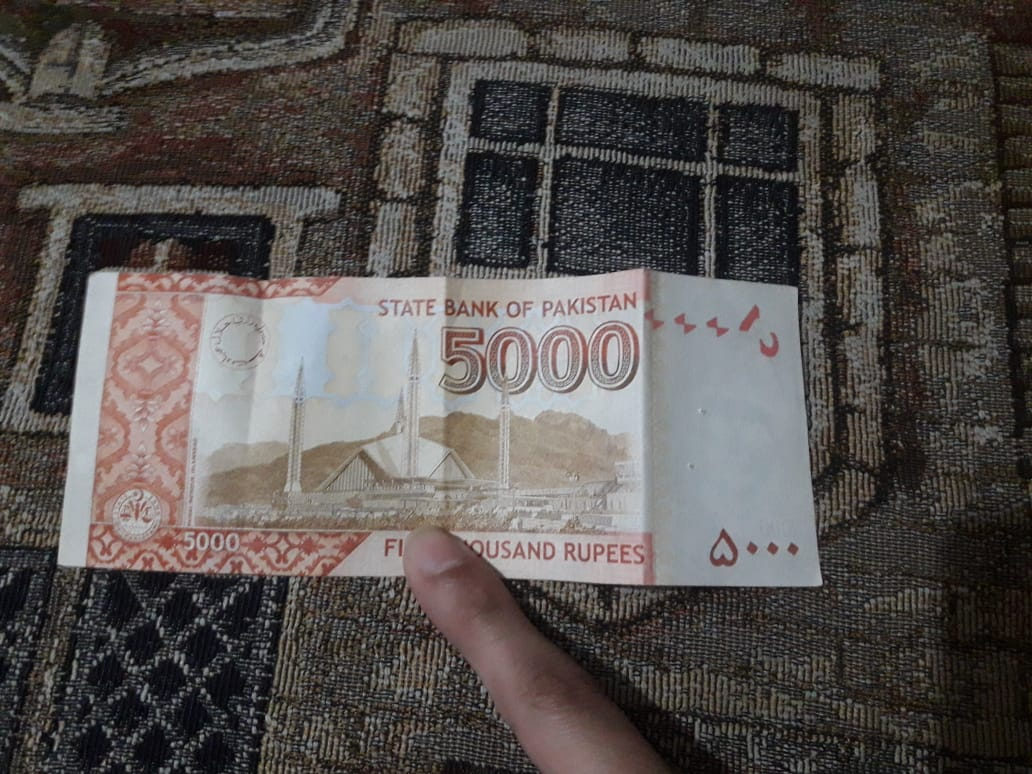5000 rupee: (71, 268, 821, 588)
